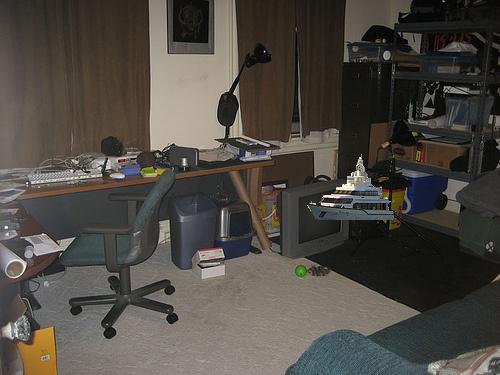tampered: (308, 155, 394, 220)
